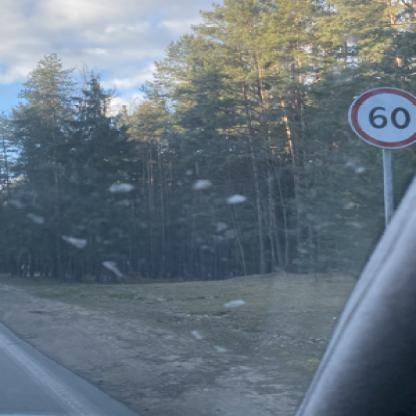speedlimit: (347, 84, 413, 148)
